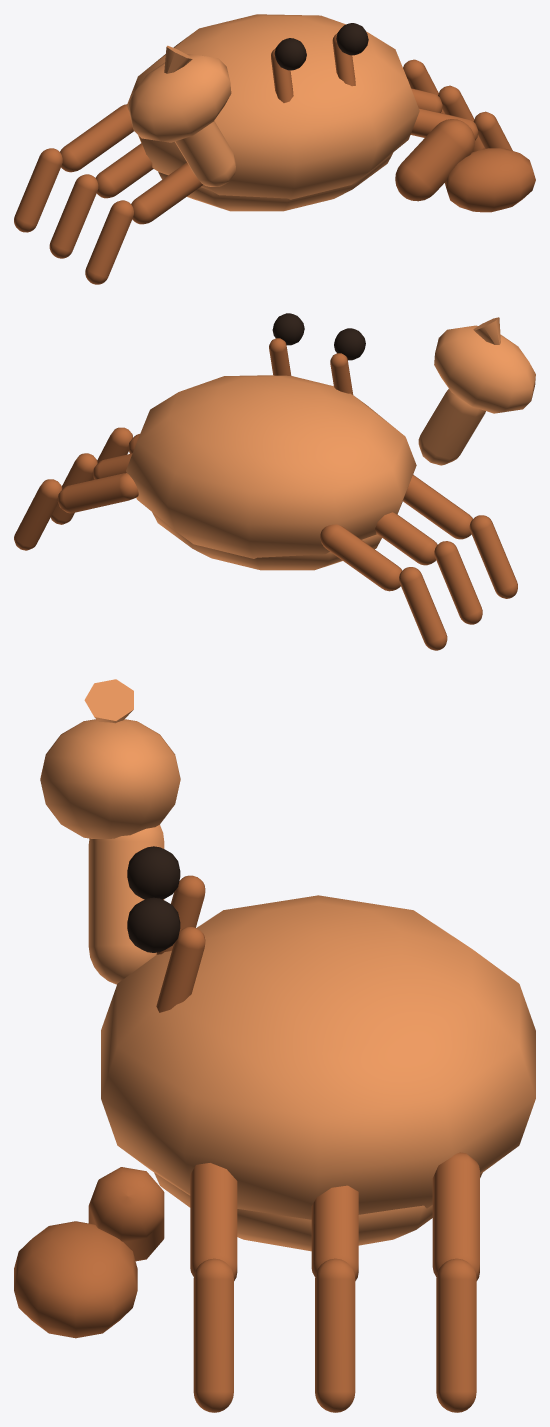
Rendered from mooncrab.glb.
3 views of the same model, one above another, from view 1: azimuth 30°, elevation 25°; view 2: azimuth 150°, elevation 25°; view 3: azimuth 270°, elevation 25° (orthographic). The views are drawn at different scales.
Visible parts, largest first — view 1: carapace, legs, clawUp, clawRest, eyes, stalks; view 2: carapace, legs, clawUp, eyes, stalks; view 3: carapace, legs, clawUp, clawRest, eyes, stalks.
Part boxes in pixels (<box>): carapace: <box>127,14,419,211</box>; legs: <box>14,59,512,284</box>; clawUp: <box>128,45,235,186</box>; clawRest: <box>395,119,535,212</box>; eyes: <box>274,23,368,70</box>; stalks: <box>271,33,355,102</box>; carapace: <box>126,375,416,570</box>; legs: <box>14,427,517,650</box>; clawUp: <box>418,317,535,465</box>; eyes: <box>272,313,365,360</box>; stalks: <box>269,338,353,394</box>; carapace: <box>101,895,535,1251</box>; legs: <box>190,1152,479,1412</box>; clawUp: <box>40,679,180,984</box>; clawRest: <box>14,1167,164,1338</box>; eyes: <box>127,846,180,952</box>; stalks: <box>156,875,205,1012</box>.
Bounding box in the file's own units: 0.9838 × 0.5375 × 0.6024.
